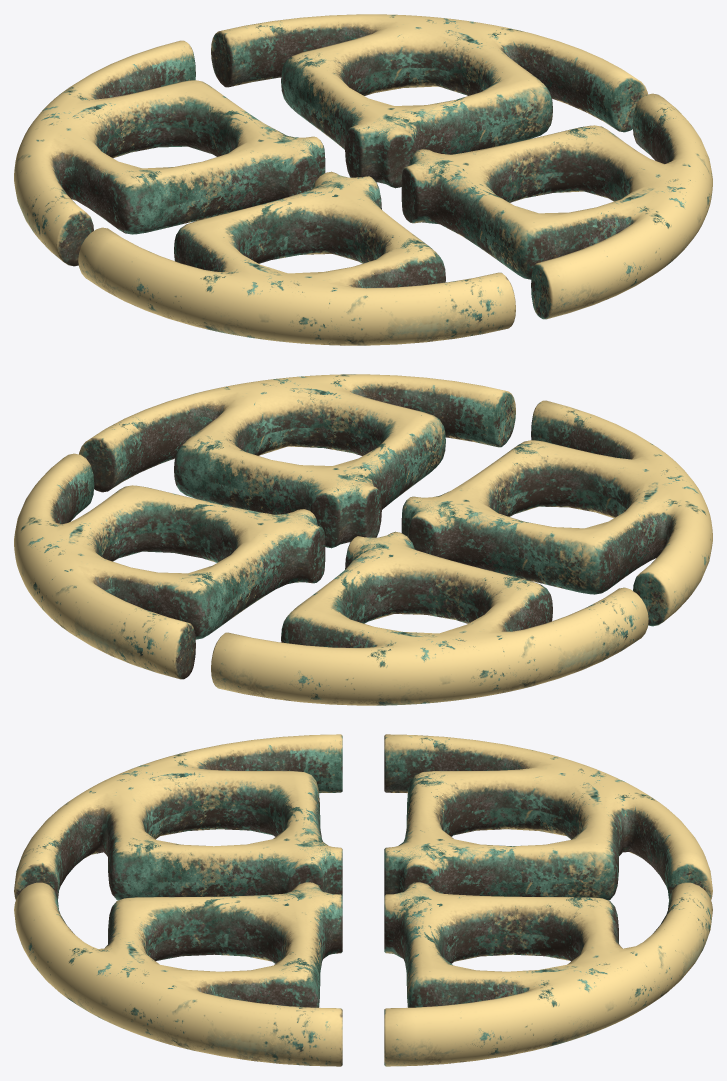
Rendered from Amulet.fbx.
3 renders of one model, top to bottom at view 1: azimuth 30°, elevation 25°; view 2: azimuth 150°, elevation 25°; view 3: azimuth 270°, elevation 25°, orthographic. The views are drawn at different scales.
Visible parts, largest first — view 1: Plane.002, Plane.004, Plane.001, Plane.003; view 2: Plane.003, Plane.001, Plane.004, Plane.002; view 3: Plane.004, Plane.001, Plane.002, Plane.003.
Part boxes in pixels (x1=…): Plane.002: x1=78, y1=171, x2=515, y2=345; Plane.004: x1=211, y1=14, x2=647, y2=188; Plane.001: x1=401, y1=93, x2=712, y2=319; Plane.003: x1=14, y1=40, x2=325, y2=266; Plane.003: x1=211, y1=531, x2=648, y2=705; Plane.001: x1=79, y1=374, x2=515, y2=548; Plane.004: x1=14, y1=453, x2=325, y2=679; Plane.002: x1=401, y1=400, x2=712, y2=626; Plane.004: x1=384, y1=882, x2=712, y2=1066; Plane.001: x1=14, y1=882, x2=342, y2=1066; Plane.002: x1=14, y1=734, x2=342, y2=900; Plane.003: x1=384, y1=734, x2=712, y2=900.
Size of the model in its own units: 188 by 17.13 by 188.
